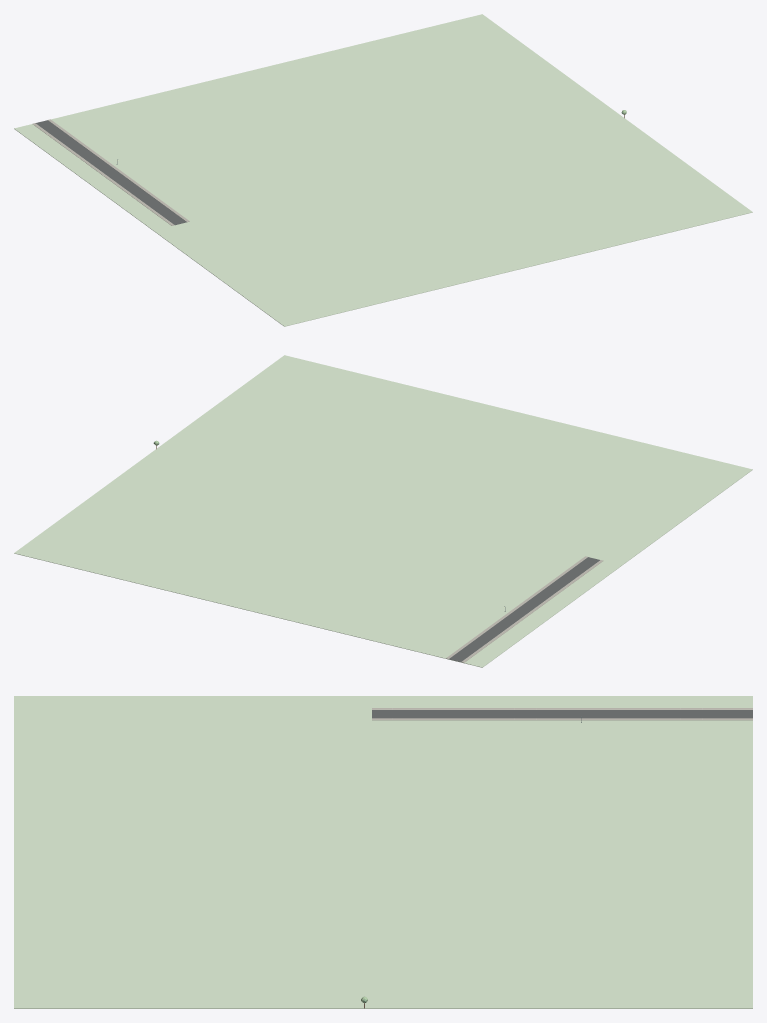
The model's file is chunk_4_7_high.glb.
3 views of the same model, one above another, from view 1: azimuth 30°, elevation 25°; view 2: azimuth 150°, elevation 25°; view 3: azimuth 270°, elevation 25° (orthographic). The views are drawn at different scales.
Visible parts, largest first — view 1: city_grass, city_world_asphalt, city_world_sidewalk; view 2: city_grass, city_world_asphalt, city_world_sidewalk; view 3: city_grass, city_world_asphalt, city_world_sidewalk.
Boxes of the visible parts, <box> form: city_grass: <box>14,14,752,326</box>; city_world_asphalt: <box>35,120,186,225</box>; city_world_sidewalk: <box>32,119,189,225</box>; city_grass: <box>14,355,752,667</box>; city_world_asphalt: <box>449,557,599,661</box>; city_world_sidewalk: <box>446,556,603,662</box>; city_grass: <box>14,696,752,1008</box>; city_world_asphalt: <box>372,710,752,718</box>; city_world_sidewalk: <box>372,708,752,720</box>.
Bounding box in the file's own units: 514 × 8.9 × 512.
